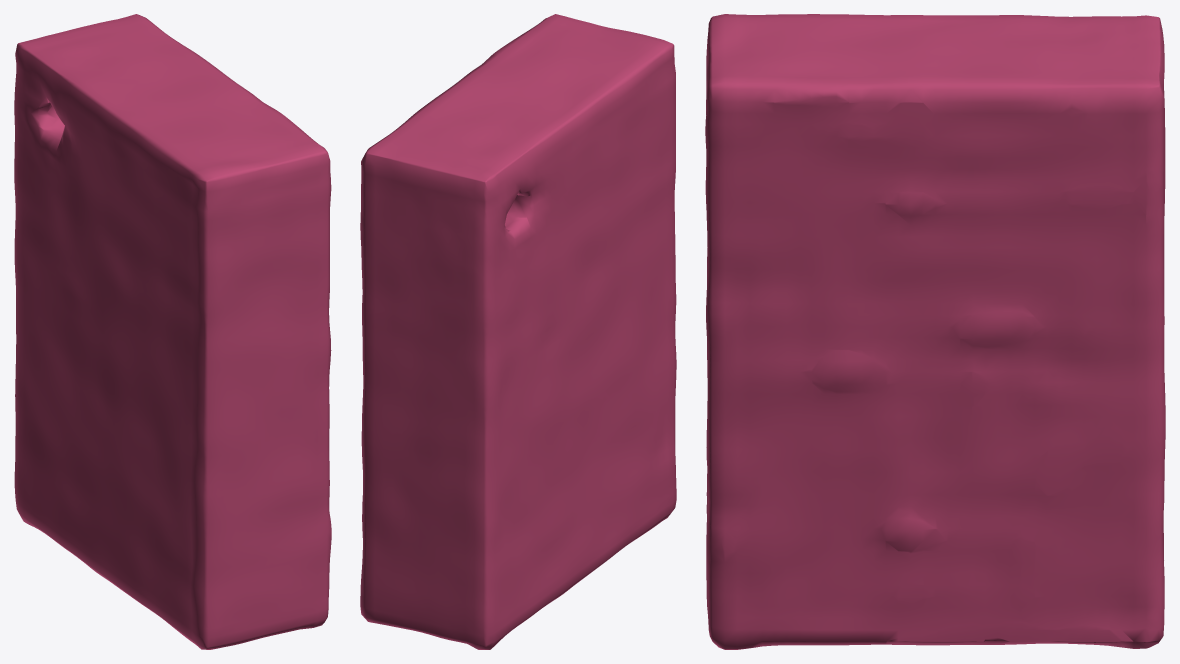
Rendered from wardrobe_13_2.obj.
3 views of the same model, side by side, from view 1: azimuth 30°, elevation 25°; view 2: azimuth 150°, elevation 25°; view 3: azimuth 270°, elevation 25° (orthographic). The views are drawn at different scales.
Size of the model in its own units: 0.2363 by 0.7932 by 0.5808.
